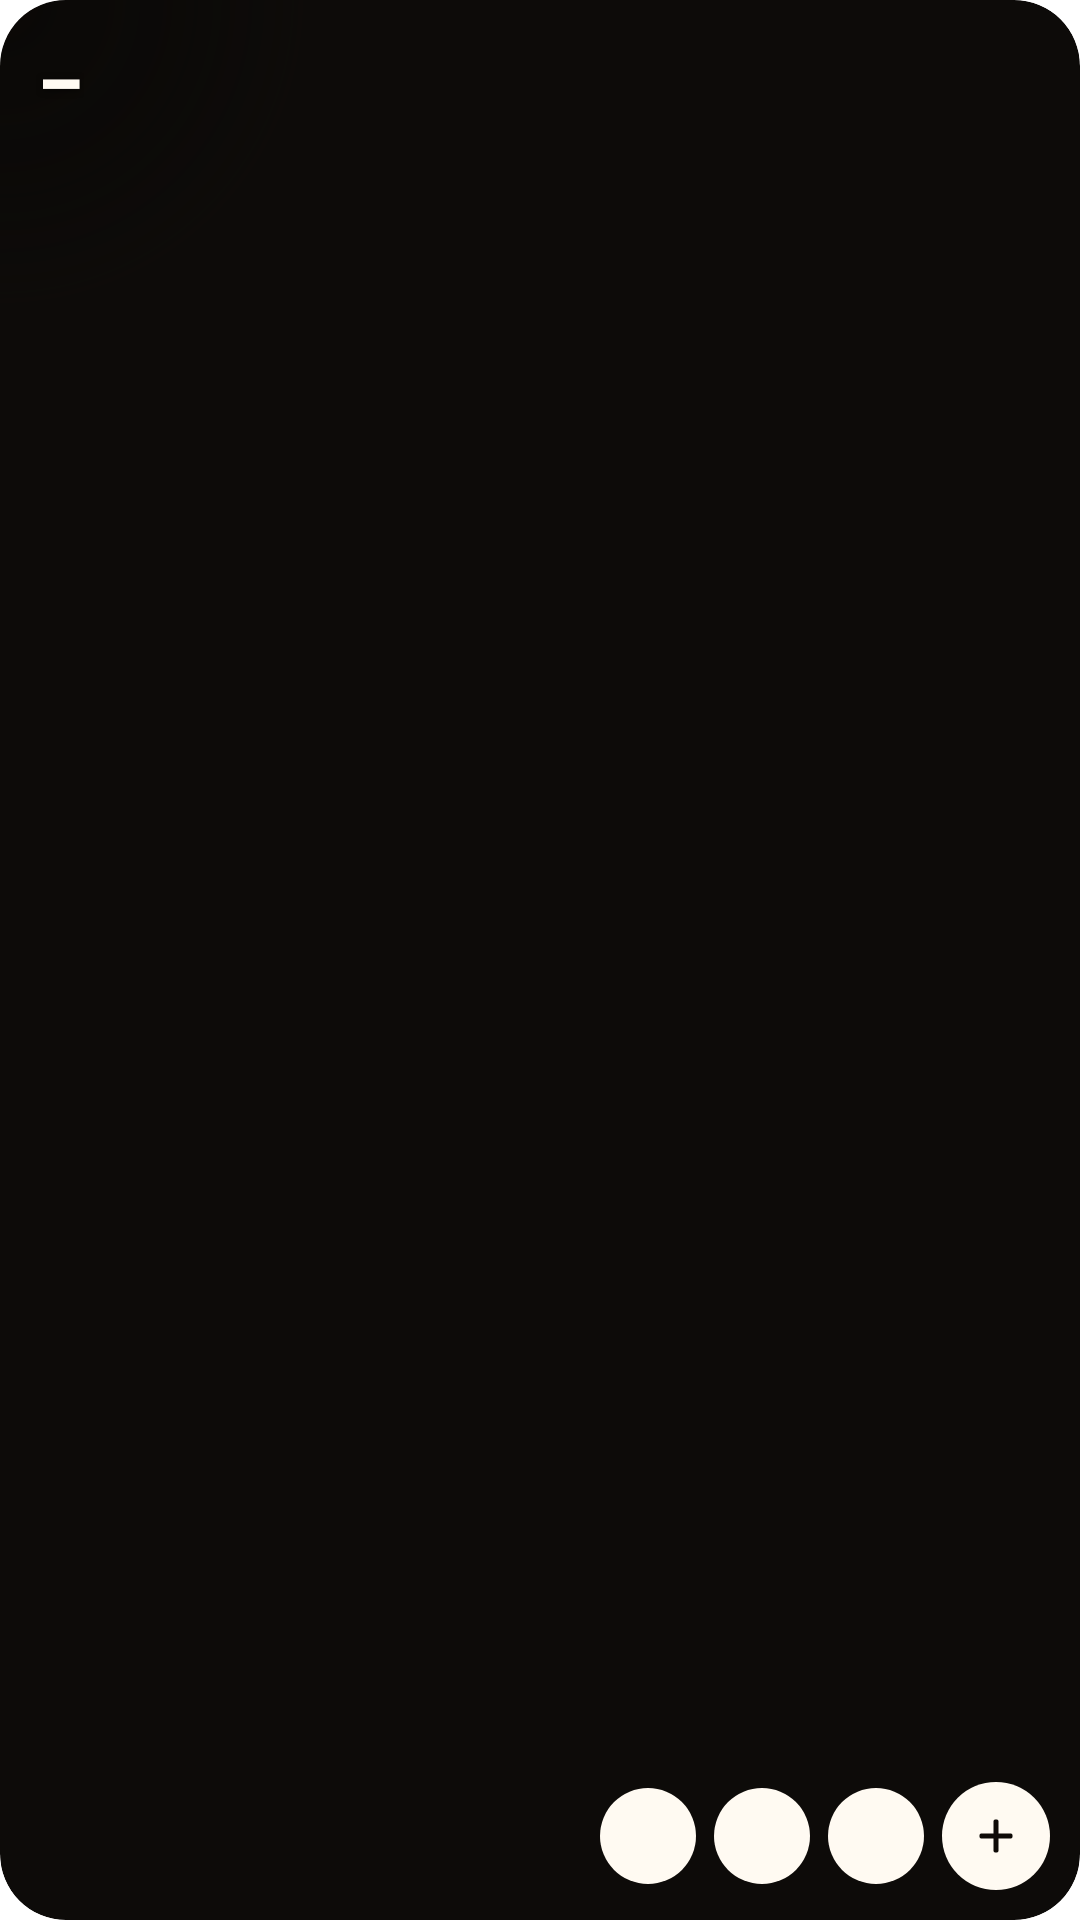

Icons on this 1080px×1920px Android screen, each with its box as bbox(x1, y1, x2, y2):
New chat: bbox(942, 1782, 1050, 1890)
